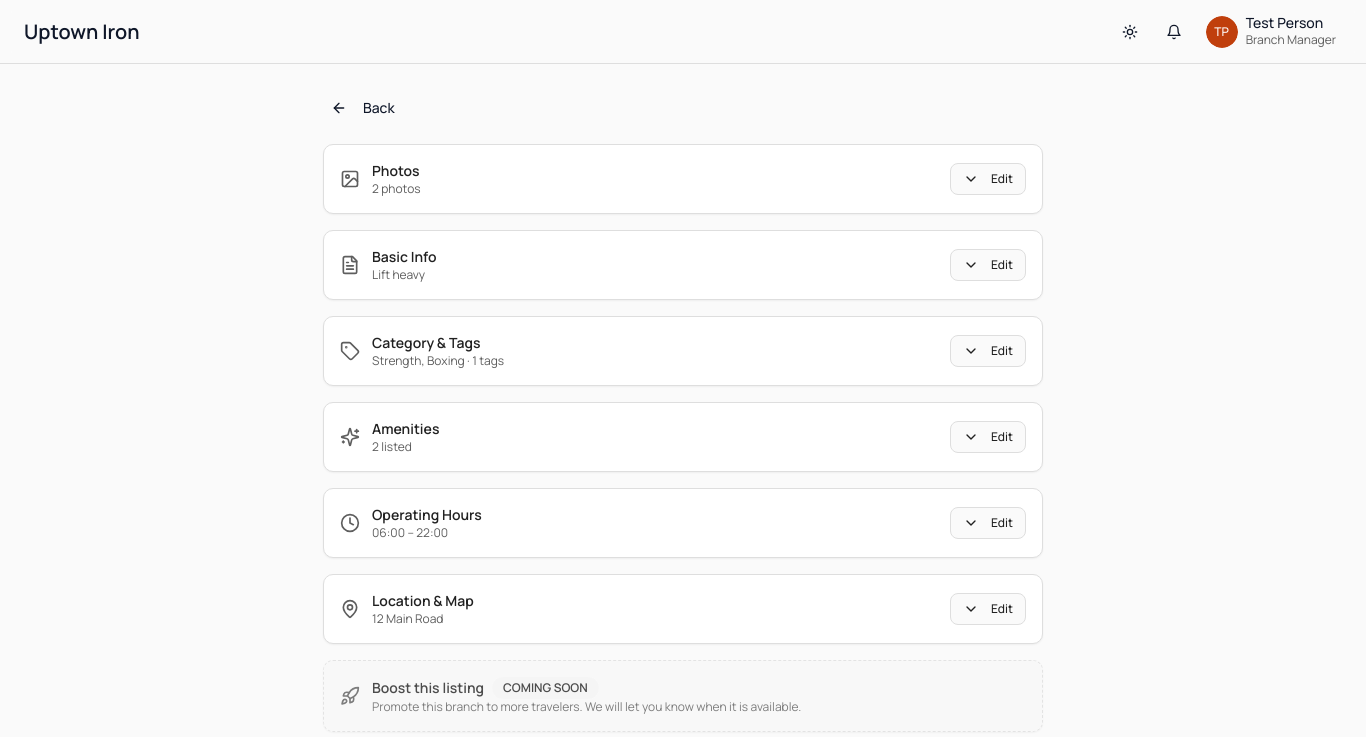
Test: Listing editor: Photos › without branch.settings the photos can be seen but not added
Click the button with aria-label "Edit Photos". click: x=988, y=179
box: [950,163,1026,195]
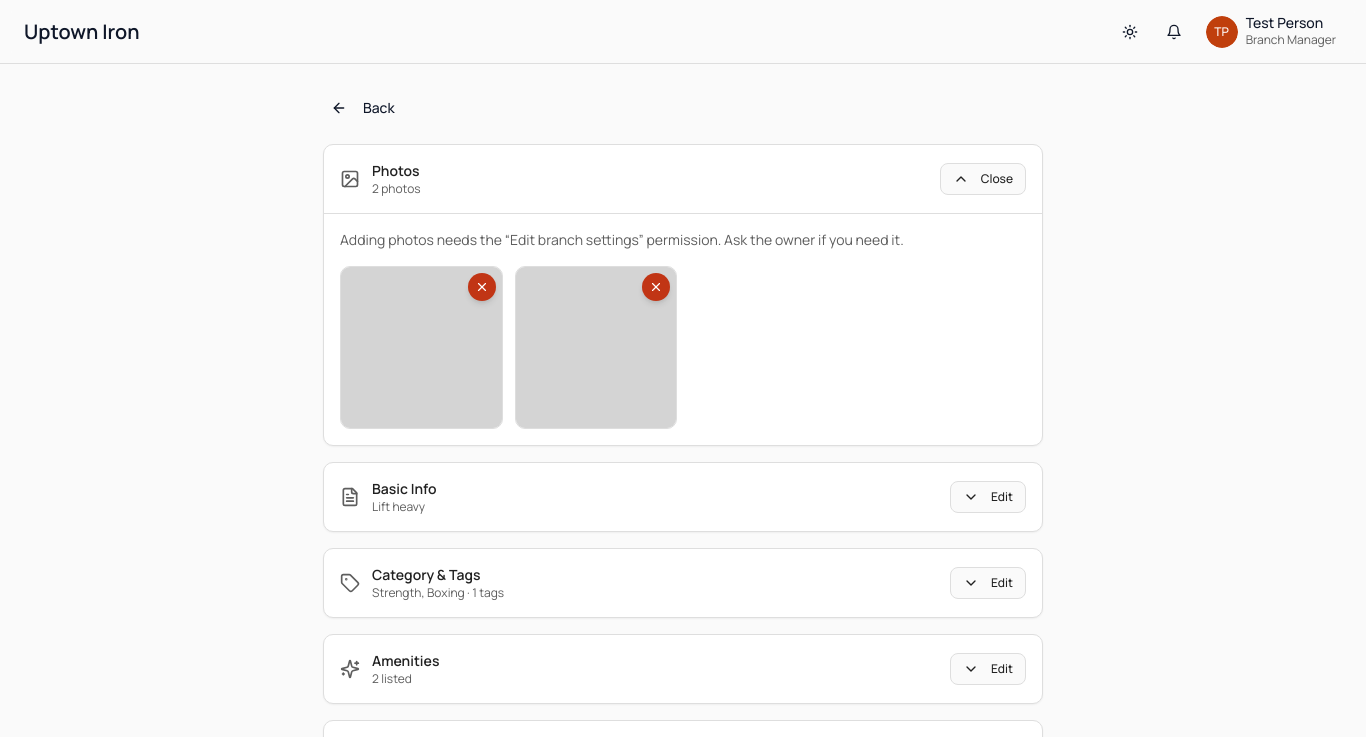
Check: the text with test id "photos-readonly" is shown, box [340,230,904,249]
